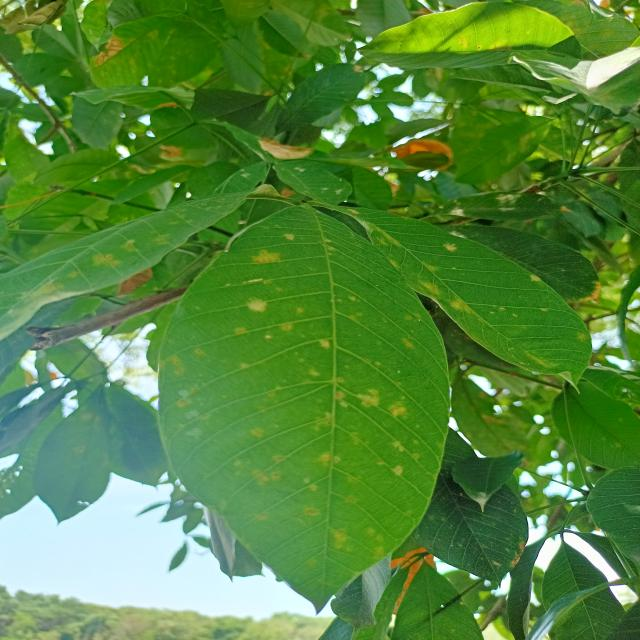Leaf-Blight: (258, 138, 312, 160), (117, 268, 154, 298), (96, 36, 124, 66), (160, 145, 180, 157), (157, 102, 179, 109)
